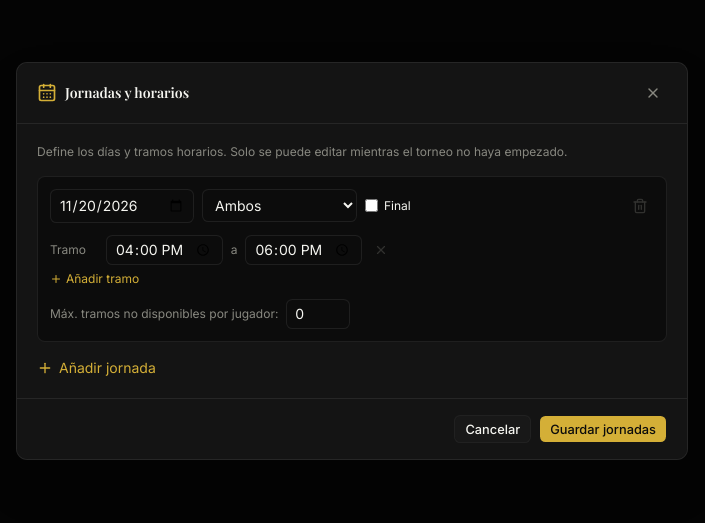
ScheduleEditorDialog — validación de jornadas (P2-9) › un tramo que se solapa con otro no se puede guardar
Step 1. Click the button "Añadir tramo" → (95,279), box [50, 271, 139, 287]
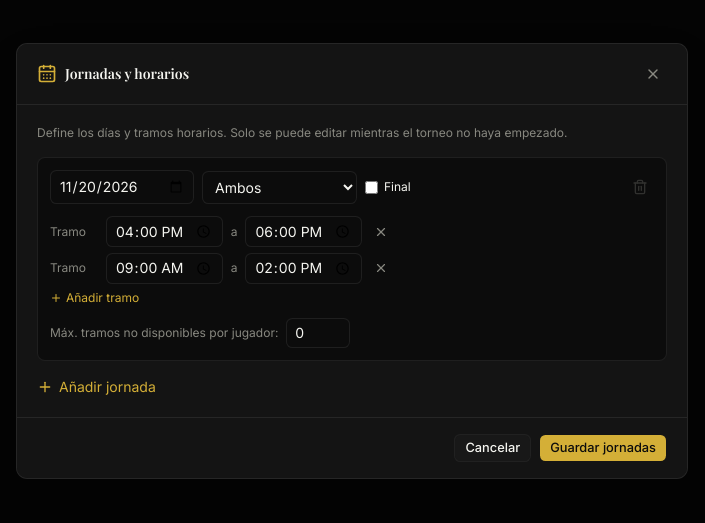
Note: 09:00-14:00 → 15:00-17:00: pisa el de 16:00-18:00
Step 2. Replace the text in the 3rd time field with "15:00" → (164,268), box [106, 253, 223, 284]
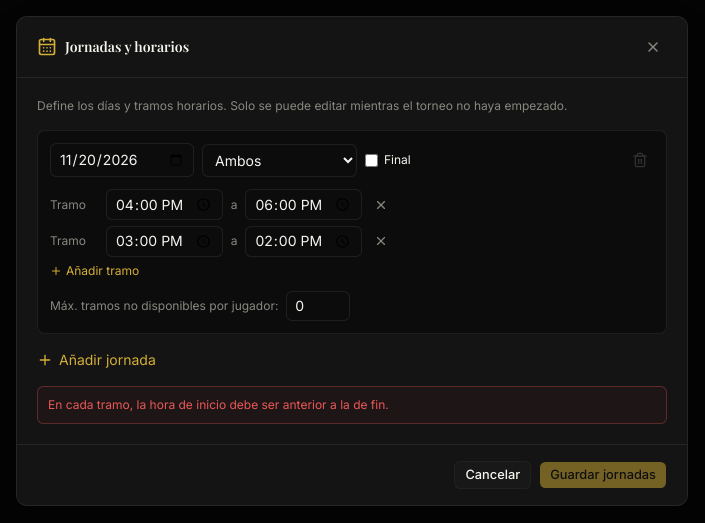
Step 3. Replace the text in the 4th time field with "17:00" → (304,241), box [245, 226, 362, 257]
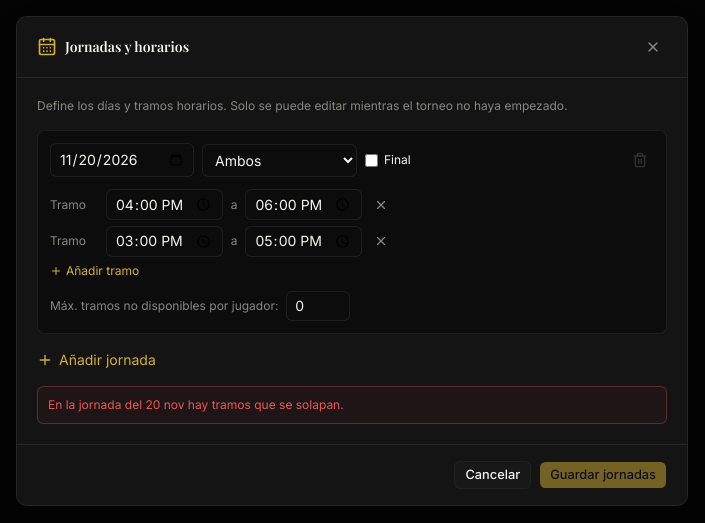
Result: the button "Guardar jornadas" is disabled at [539, 461, 667, 489]
Result: the text "En la jornada del 20 nov hay tramos que se solapan." is shown at [37, 386, 667, 424]
